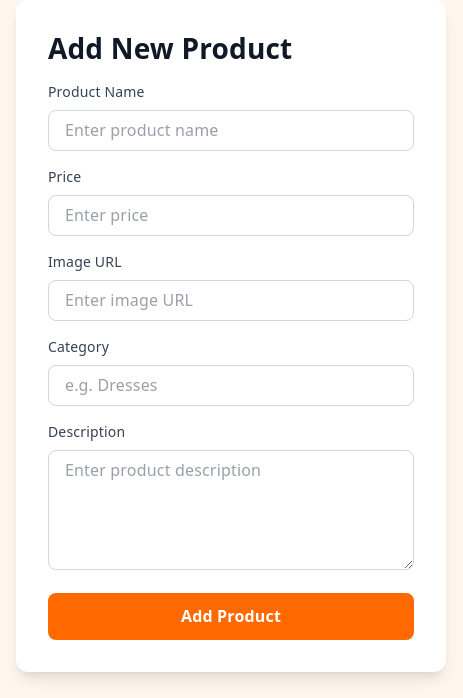
ProductForm › clears the form after submitting
The image size is (463, 698).
Step 1. Type "Summer Dress" into the field with placeholder "Enter product name" → (231, 130), box [48, 110, 414, 151]
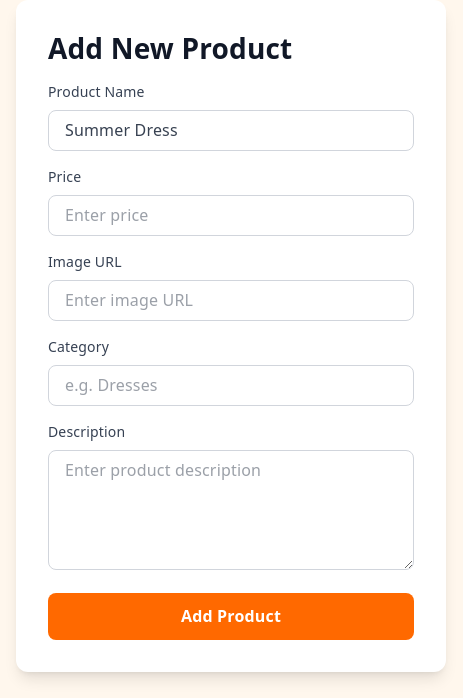
Step 2. Type "2500" into the number field with placeholder "Enter price" → (231, 215), box [48, 195, 414, 236]
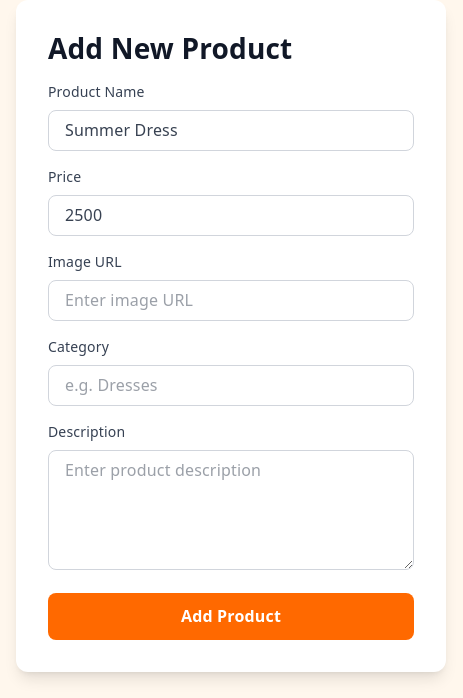
Step 3. Type "dress.jpg" into the field with placeholder "Enter image URL" → (231, 301), box [48, 280, 414, 321]
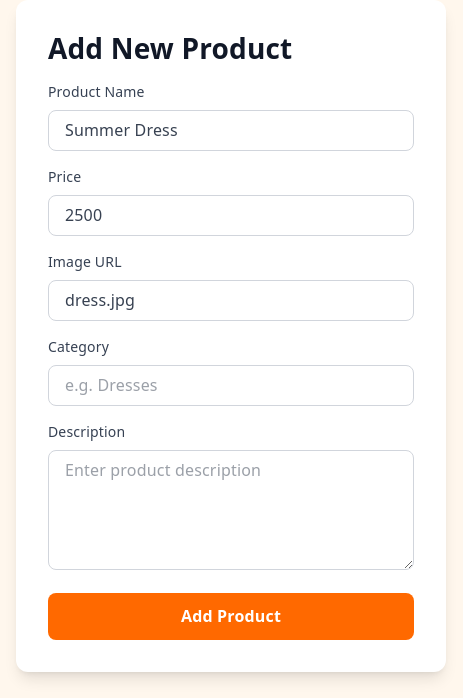
Step 4. Type "Dresses" into the field with placeholder "e.g. Dresses" → (231, 386), box [48, 365, 414, 406]
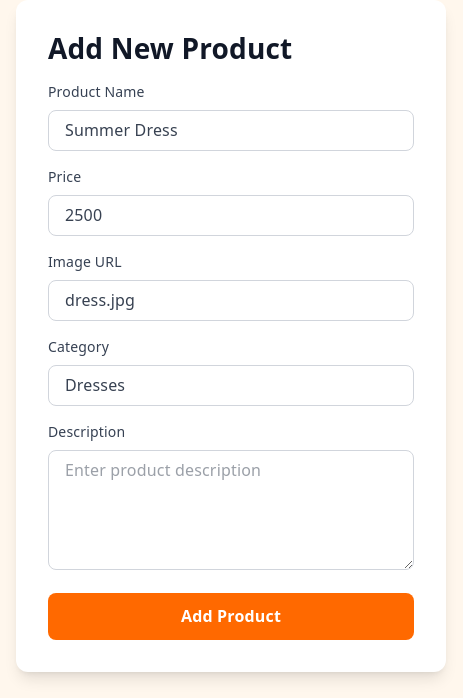
Step 5. Type "Beautiful summer dress" into the text box with placeholder "Enter product description" → (231, 510), box [48, 450, 414, 570]
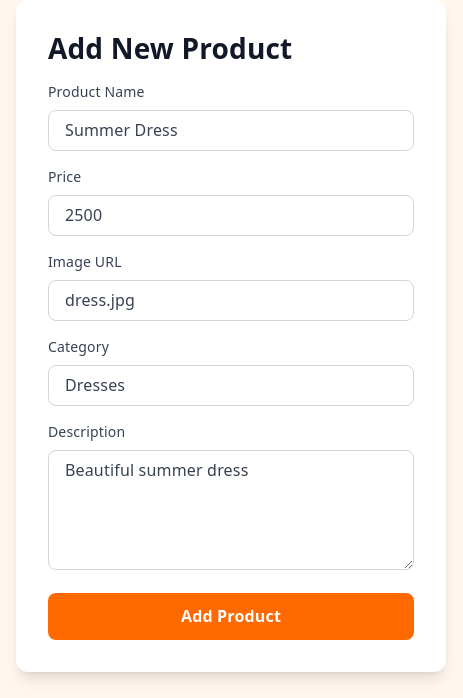
Step 6. Click the button "Add Product" → (231, 616), box [48, 592, 414, 640]
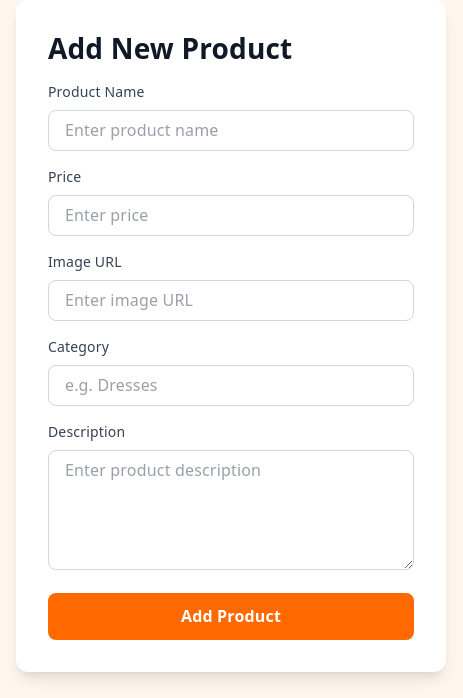
expect the field with placeholder "Enter product name" is empty: met, box [48, 110, 414, 151]
expect the number field with placeholder "Enter price" is not empty: met, box [48, 195, 414, 236]
expect the field with placeholder "Enter image URL" is empty: met, box [48, 280, 414, 321]
